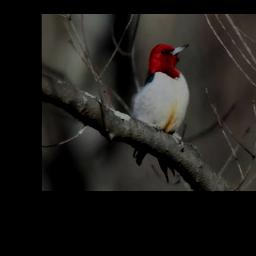Woodpecker: (129, 43, 193, 186)
